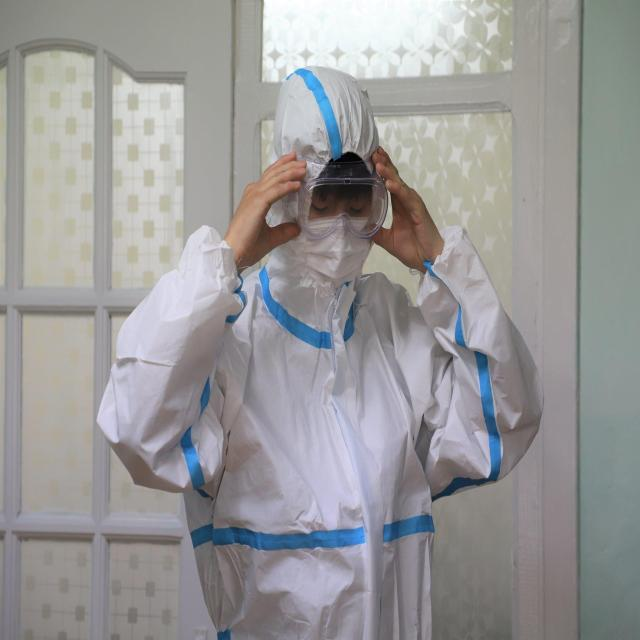Goggles: (302, 162, 390, 239)
Mask: (304, 217, 374, 285)
